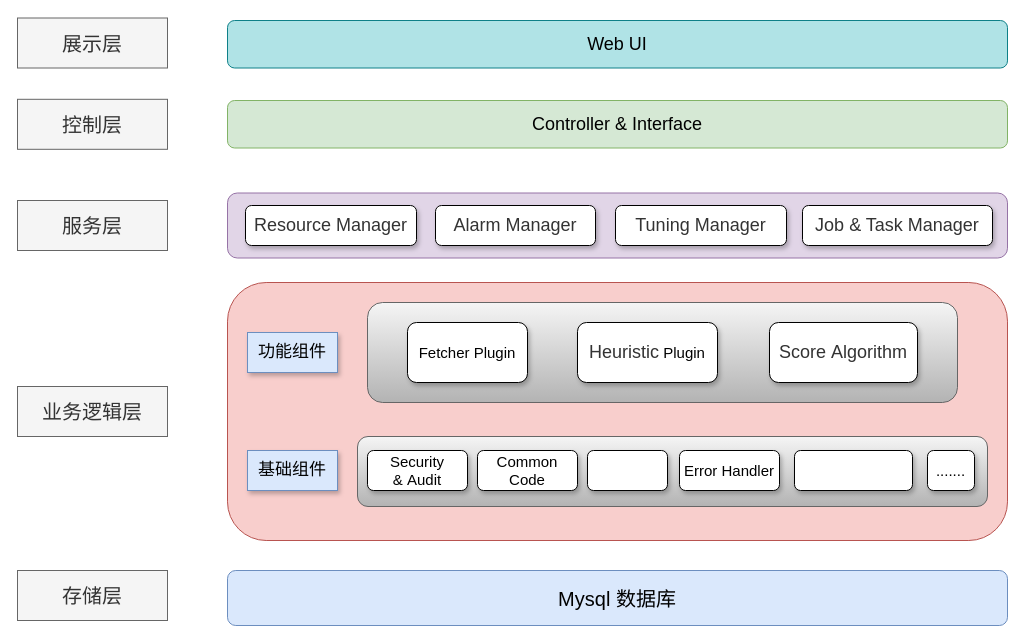
The diagram is 1025 pixels wide and 643 high, and some of its shapes have lost their labels. The centre of each missing label's shape, as x and y in pixels:
"POJO & ORM Mapping" belongs at (x=854, y=472).
"Scheduler" belongs at (x=628, y=472).
